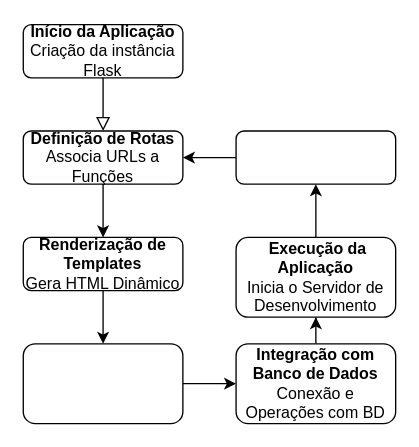
This 419x447 diagram has some shape labels left out. The centre of each missing label's shape, as x and y in pixels:
"Atende Solicitações dos utilizadores" goes at pixel 315 157.
"Manipulação de Formulários Registo, Login e gestão de senhas" goes at pixel 102 383.
